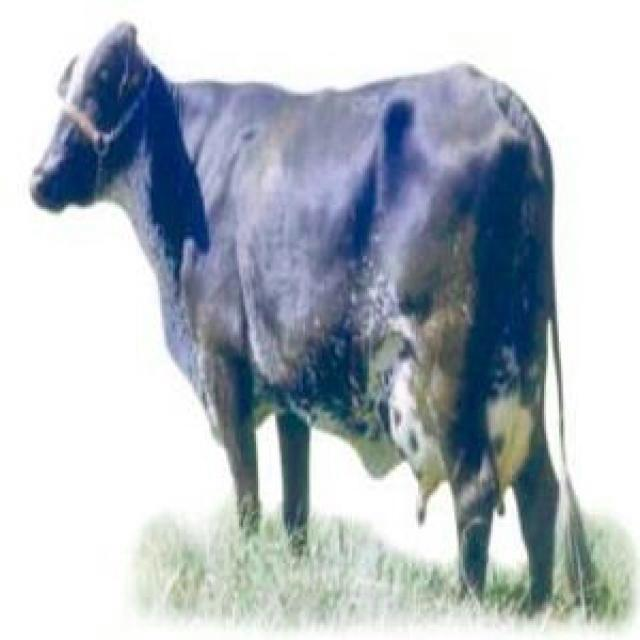cow: (32, 24, 588, 608)
